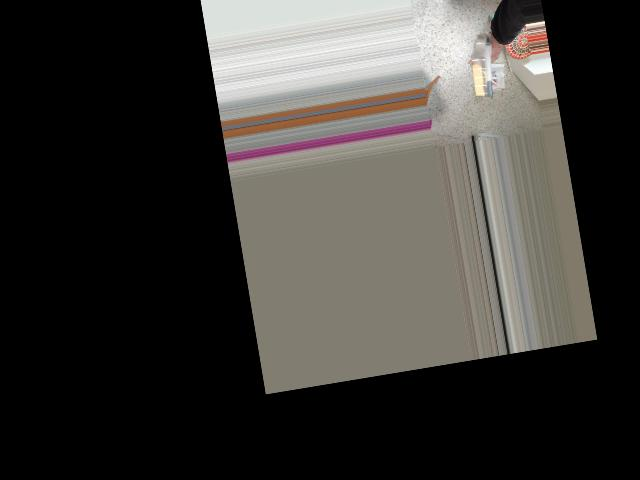cheese: (450, 39, 533, 103)
